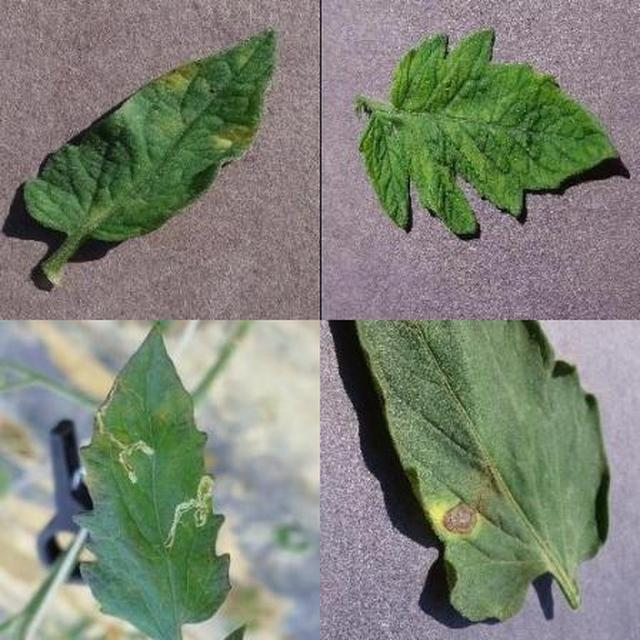Leaf Mold: (217, 188, 640, 640)
